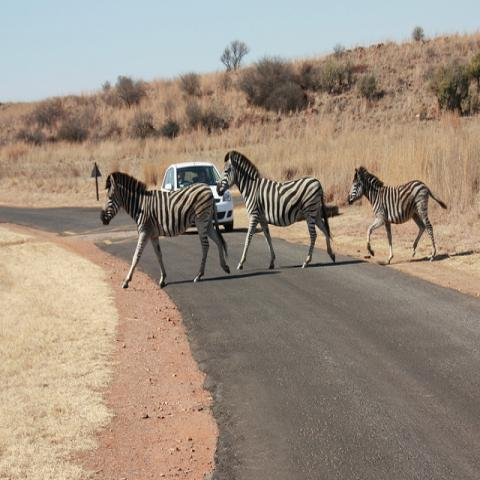car: (160, 162, 234, 228)
